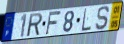1: (20, 13, 28, 40)
8: (63, 10, 75, 33)
F: (45, 10, 62, 36)
L: (81, 7, 92, 33)
R: (26, 12, 43, 38)
S: (95, 6, 111, 31)
